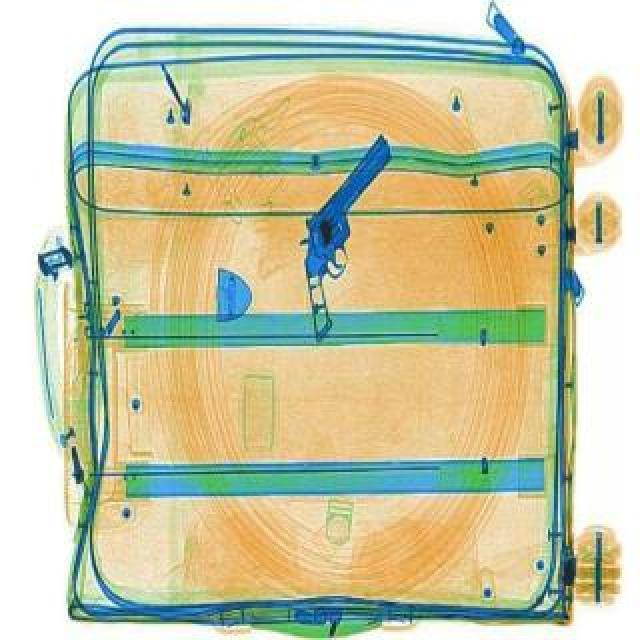gun: (252, 132, 448, 336)
